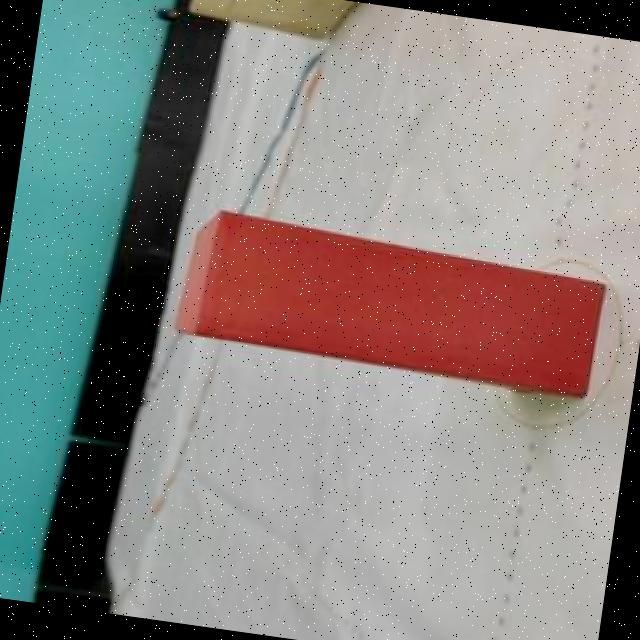redbox: (173, 207, 608, 400)
